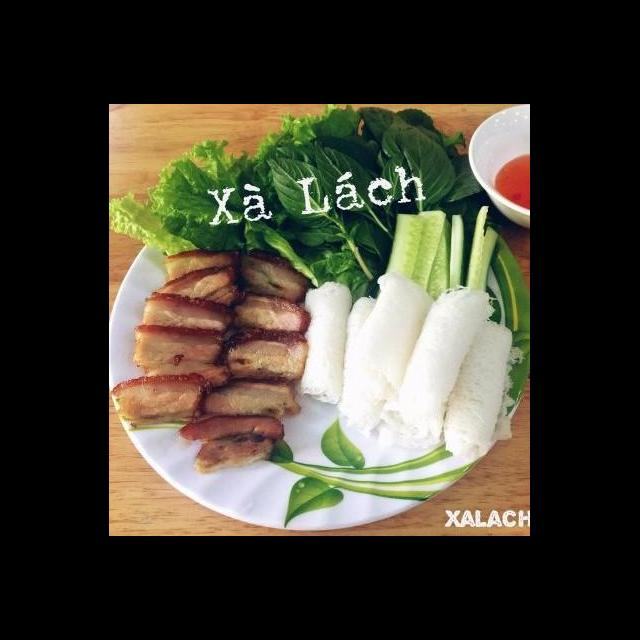banh hoi: (378, 280, 502, 441), (439, 318, 526, 462), (362, 268, 440, 403), (334, 293, 402, 440), (294, 278, 356, 408)
banh hoi heo quay: (127, 139, 530, 536)
thit heo quay: (128, 320, 232, 396), (175, 410, 292, 476), (110, 370, 216, 435), (136, 288, 238, 351), (214, 322, 312, 386), (234, 245, 316, 313), (150, 261, 248, 316), (226, 287, 314, 348), (202, 374, 304, 424), (160, 245, 248, 290)
